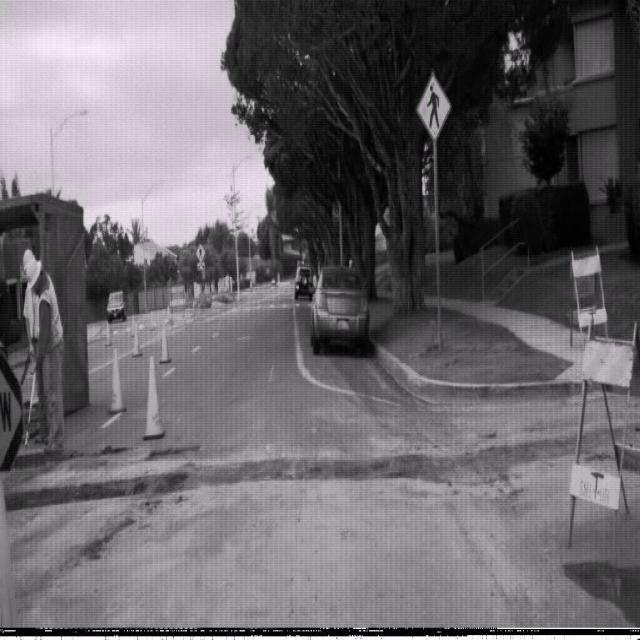pedestrianCrossing: (415, 71, 452, 142), (195, 242, 206, 264)
